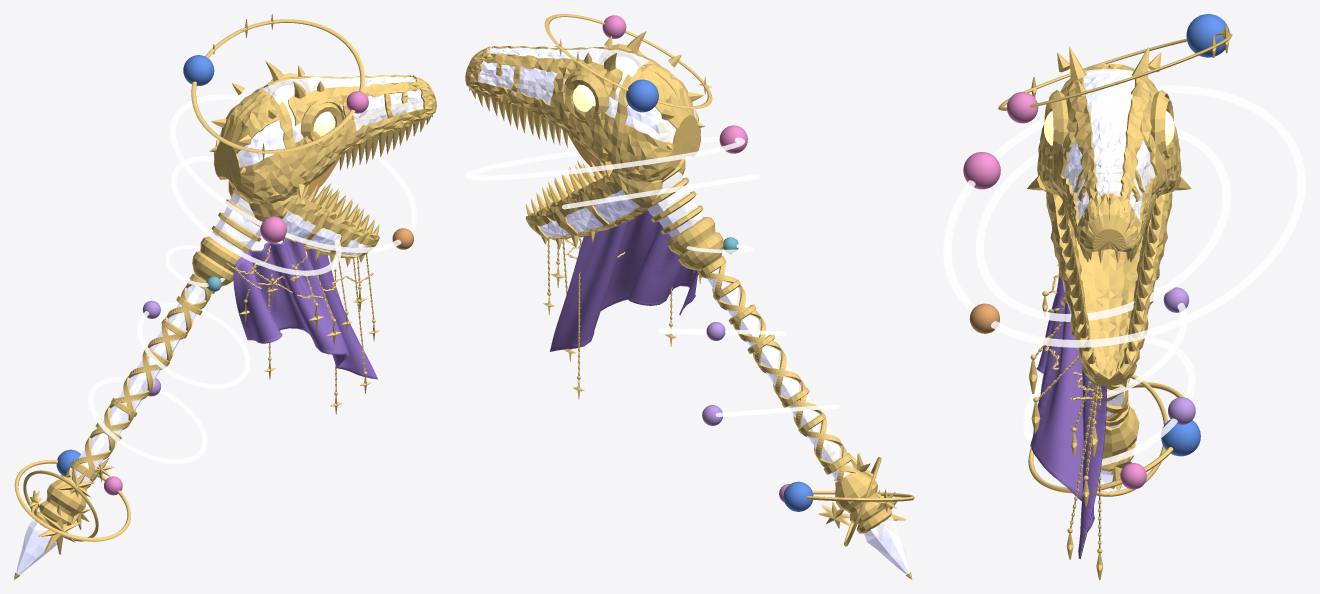
The model's file is Pala29_ReyGalactico.glb.
3 renders of one model, left to right at view 1: azimuth 30°, elevation 25°; view 2: azimuth 150°, elevation 25°; view 3: azimuth 270°, elevation 25°, orthographic. The views are drawn at different scales.
Visible parts, largest first — view 1: Craneo_Oro, Capa, Craneo_Cristal, Mandibula_Oro, Mango_Enrejado, Anillo_Cabeza_A, Mango_Cristal, Cuencas_Cuernos, Halo, Anillo_Cabeza_B, Pomo_Orbitas, Pomo_Estrellas (+16 smaller); view 2: Craneo_Oro, Capa, Craneo_Cristal, Mandibula_Oro, Mango_Enrejado, Mango_Cristal, Anillo_Cabeza_A, Cuencas_Cuernos, Collar, Mandibula_Cristal, Pomo_Nucleo, Mango_Aros (+15 smaller); view 3: Craneo_Oro, Mandibula_Oro, Capa, Anillo_Cabeza_A, Craneo_Cristal, Anillo_Cabeza_B, Cuencas_Cuernos, Dientes_Inferiores, Anillo_Mango_2, Pomo_Orbitas, Halo, Cadenas_Colgantes (+14 smaller).
Boxes of the visible parts, x1=… form: Craneo_Oro: x1=213, y1=75, x2=436, y2=203; Capa: x1=233, y1=233, x2=377, y2=379; Craneo_Cristal: x1=218, y1=76, x2=423, y2=167; Mandibula_Oro: x1=228, y1=158, x2=379, y2=266; Mango_Enrejado: x1=66, y1=277, x2=212, y2=488; Anillo_Cabeza_A: x1=170, y1=94, x2=417, y2=252; Mango_Cristal: x1=69, y1=284, x2=205, y2=481; Cuencas_Cuernos: x1=209, y1=60, x2=430, y2=198; Halo: x1=191, y1=19, x2=364, y2=153; Anillo_Cabeza_B: x1=171, y1=156, x2=341, y2=275; Pomo_Orbitas: x1=14, y1=459, x2=130, y2=541; Pomo_Estrellas: x1=28, y1=458, x2=114, y2=554; Craneo_Oro: x1=465, y1=46, x2=700, y2=182; Capa: x1=550, y1=201, x2=698, y2=351; Craneo_Cristal: x1=479, y1=47, x2=695, y2=143; Mandibula_Oro: x1=525, y1=134, x2=685, y2=248; Mango_Enrejado: x1=697, y1=255, x2=855, y2=481; Mango_Cristal: x1=706, y1=268, x2=853, y2=481; Anillo_Cabeza_A: x1=465, y1=137, x2=744, y2=180; Cuencas_Cuernos: x1=471, y1=31, x2=705, y2=176; Collar: x1=668, y1=217, x2=723, y2=270; Mandibula_Cristal: x1=539, y1=189, x2=638, y2=236; Pomo_Nucleo: x1=835, y1=469, x2=884, y2=524; Mango_Aros: x1=697, y1=256, x2=852, y2=474; Craneo_Oro: x1=1037, y1=63, x2=1181, y2=252; Mandibula_Oro: x1=1046, y1=166, x2=1172, y2=387; Capa: x1=1030, y1=276, x2=1106, y2=559; Anillo_Cabeza_A: x1=943, y1=85, x2=1305, y2=347; Craneo_Cristal: x1=1063, y1=68, x2=1155, y2=220; Anillo_Cabeza_B: x1=975, y1=128, x2=1230, y2=321; Cuencas_Cuernos: x1=1027, y1=46, x2=1191, y2=217; Dientes_Inferiores: x1=1057, y1=202, x2=1160, y2=365; Anillo_Mango_2: x1=1023, y1=337, x2=1195, y2=465; Pomo_Orbitas: x1=1028, y1=374, x2=1183, y2=496; Halo: x1=998, y1=32, x2=1232, y2=110; Cadenas_Colgantes: x1=1034, y1=284, x2=1101, y2=548.
Size of the model in its own units: 5.57 by 5.95 by 2.99.
